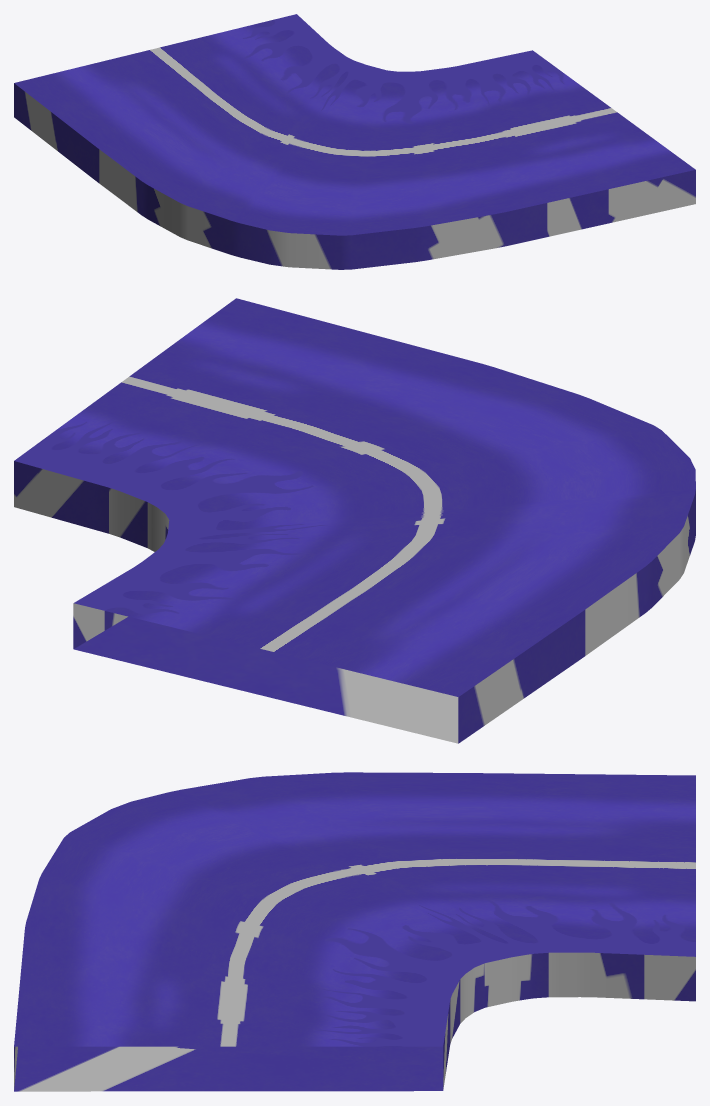
The model's file is PV_TSCurveMEdium.fbx.
The picture shows the model from 3 angles, top to bottom: view 1: azimuth 30°, elevation 25°; view 2: azimuth 150°, elevation 25°; view 3: azimuth 270°, elevation 25°; orthographic projection. The views are drawn at different scales.
Visible parts, largest first — view 1: face2; view 2: face2; view 3: face2.
Part boxes in pixels (left/top/right/bottom): face2: left=14, top=14, right=695, bottom=269; face2: left=14, top=298, right=695, bottom=743; face2: left=14, top=772, right=695, bottom=1091.
Bounding box in the file's own units: 3596 × 275 × 3781.
